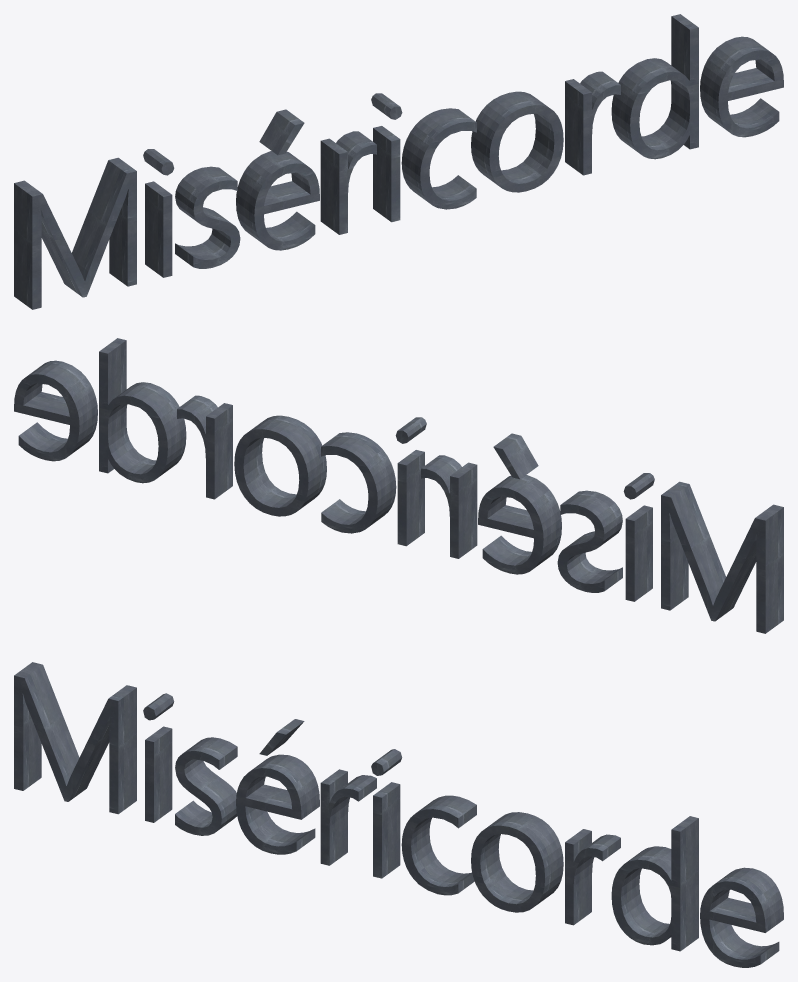
Rendered from Miséricorde.fbx.
3 views of the same model, one above another, from view 1: azimuth 30°, elevation 25°; view 2: azimuth 150°, elevation 25°; view 3: azimuth 330°, elevation 25° (orthographic).
Parts seen in each view (by area): view 1: Métal - Fer; view 2: Métal - Fer; view 3: Métal - Fer.
Part boxes in pixels (x1,y1,x2,y2): Métal - Fer: [14, 14, 783, 309]; Métal - Fer: [14, 338, 783, 633]; Métal - Fer: [14, 662, 783, 967].
Bounding box in the file's own units: 704 × 30 × 110.
Materials: 1 (1 with a texture image).
